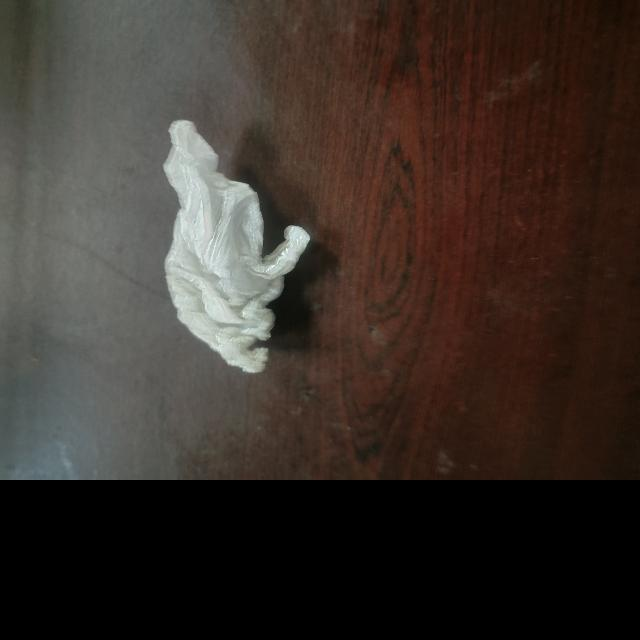kitchen paper: (156, 111, 314, 378)
